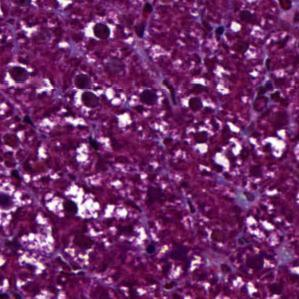inflammation: (49, 189, 101, 224), (5, 58, 38, 93), (184, 123, 220, 154), (70, 87, 107, 114), (181, 89, 217, 115), (84, 15, 117, 43), (257, 133, 288, 158)
